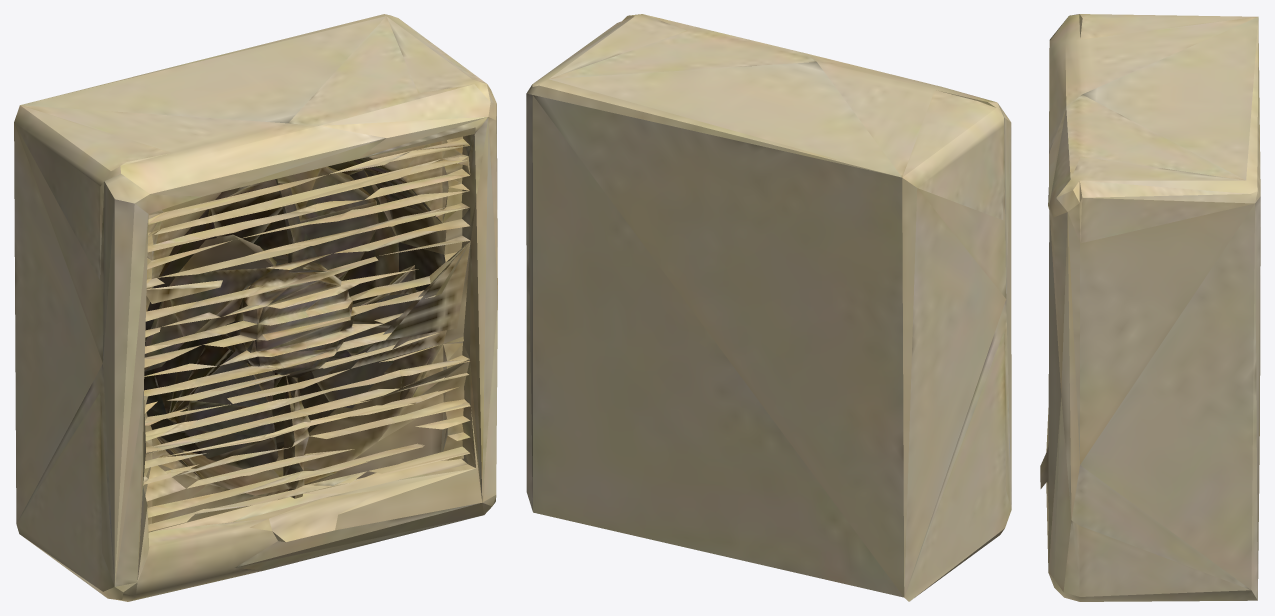
File: w3hexhaust.glb
3 renders of one model, left to right at view 1: azimuth 30°, elevation 25°; view 2: azimuth 150°, elevation 25°; view 3: azimuth 270°, elevation 25°, orthographic. The views are drawn at different scales.
Visible parts, largest first — view 1: output_unwrapped; view 2: output_unwrapped; view 3: output_unwrapped.
Boxes of the visible parts, x1,y1,x2,y2 form: output_unwrapped: (14, 14, 497, 601); output_unwrapped: (526, 14, 1011, 601); output_unwrapped: (1040, 14, 1260, 601).
Size of the model in its own units: 0.38 by 0.4055 by 0.1929.
1 material, 1 textured.
